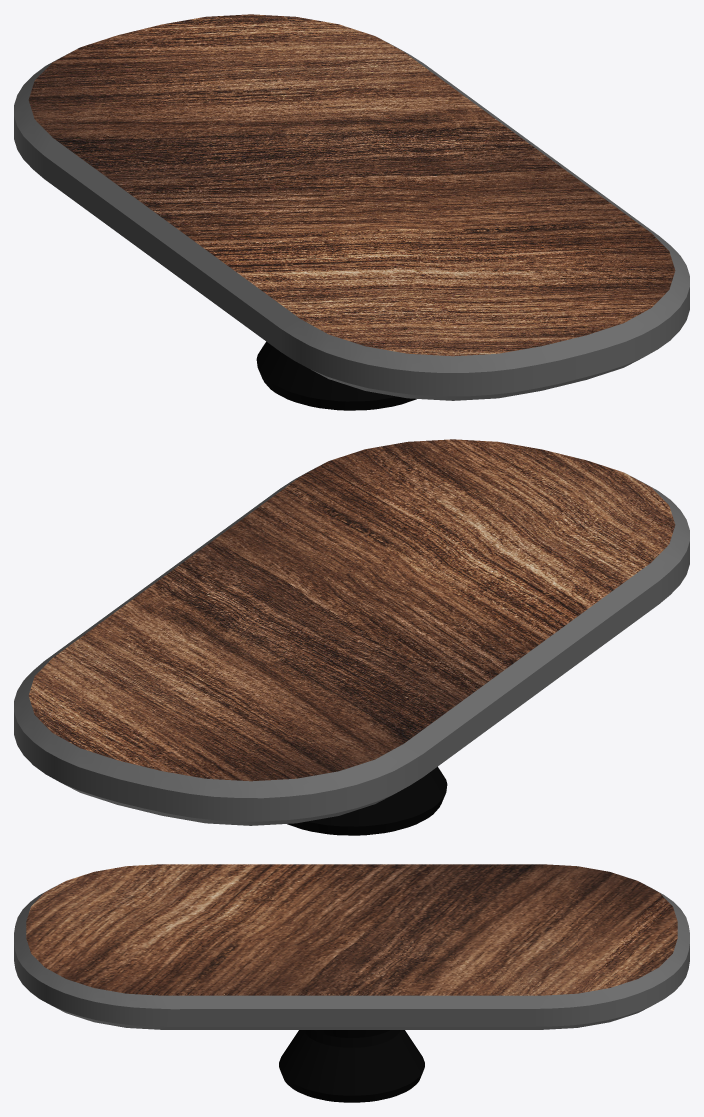
File: Table1.fbx
3 views of the same model, one above another, from view 1: azimuth 30°, elevation 25°; view 2: azimuth 150°, elevation 25°; view 3: azimuth 270°, elevation 25° (orthographic). The views are drawn at different scales.
Parts seen in each view (by area): view 1: pCylinder2; view 2: pCylinder2; view 3: pCylinder2.
Boxes of the visible parts, x1=… form: pCylinder2: x1=14, y1=14, x2=689, y2=410; pCylinder2: x1=14, y1=439, x2=689, y2=835; pCylinder2: x1=14, y1=864, x2=689, y2=1102.
Size of the model in its own units: 5.44 by 2.57 by 10.96.
